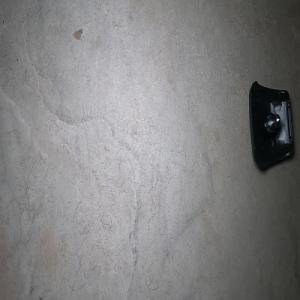LuggagePart: (248, 80, 295, 170)
